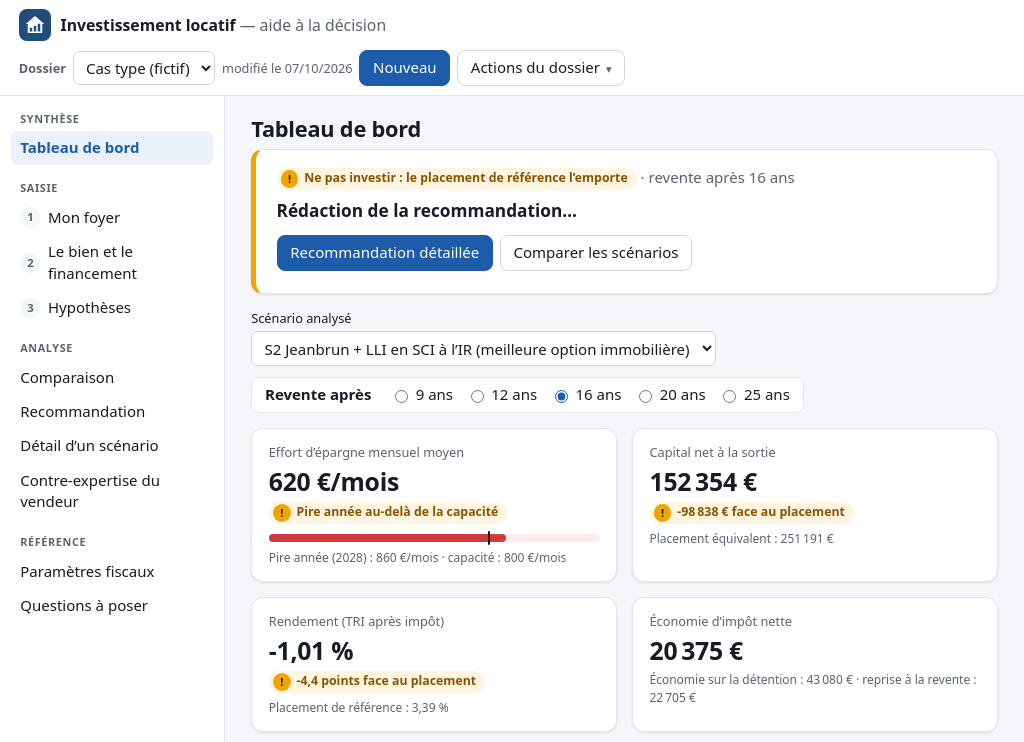
Test: tableau de bord › dossier incomplet : le tableau de bord dit quoi saisir
What coordinates should you click on to do the following:
click the button "Nouveau"
I would click on:
 (405, 68)
Its box is x1=359 y1=50 x2=450 y2=86.
(page scrolled)
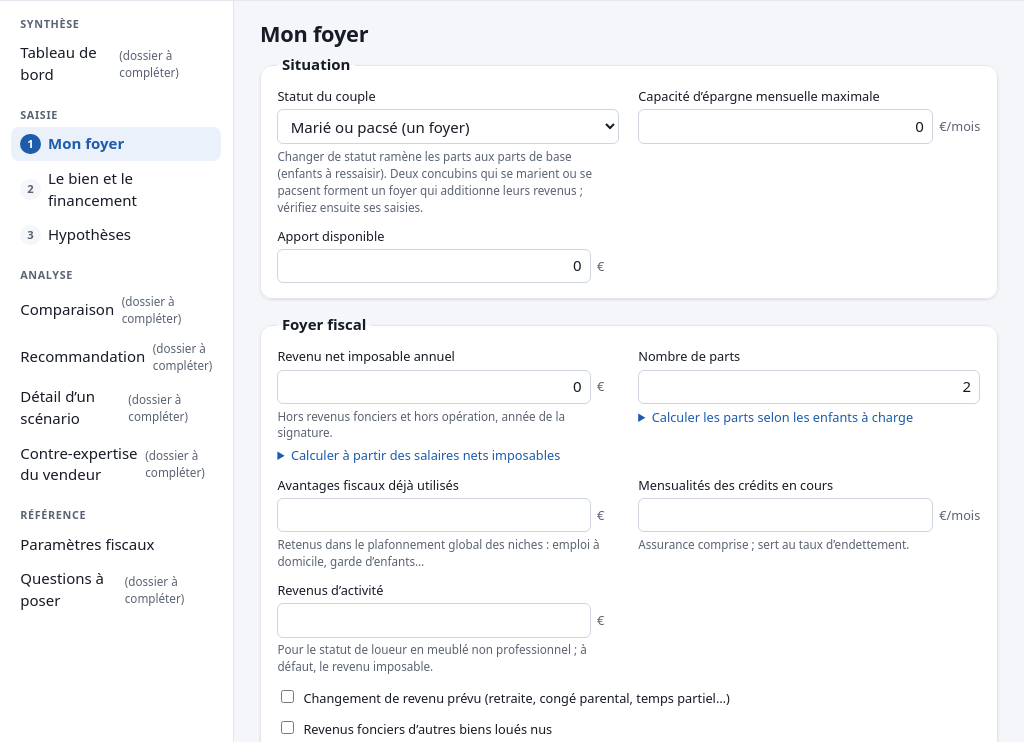
What coordinates should you click on to do the following:
click the link "Tableau de bord (dossier à compléter)"
I would click on:
 (100, 63)
Its box is x1=20 y1=42 x2=179 y2=84.
(page scrolled)
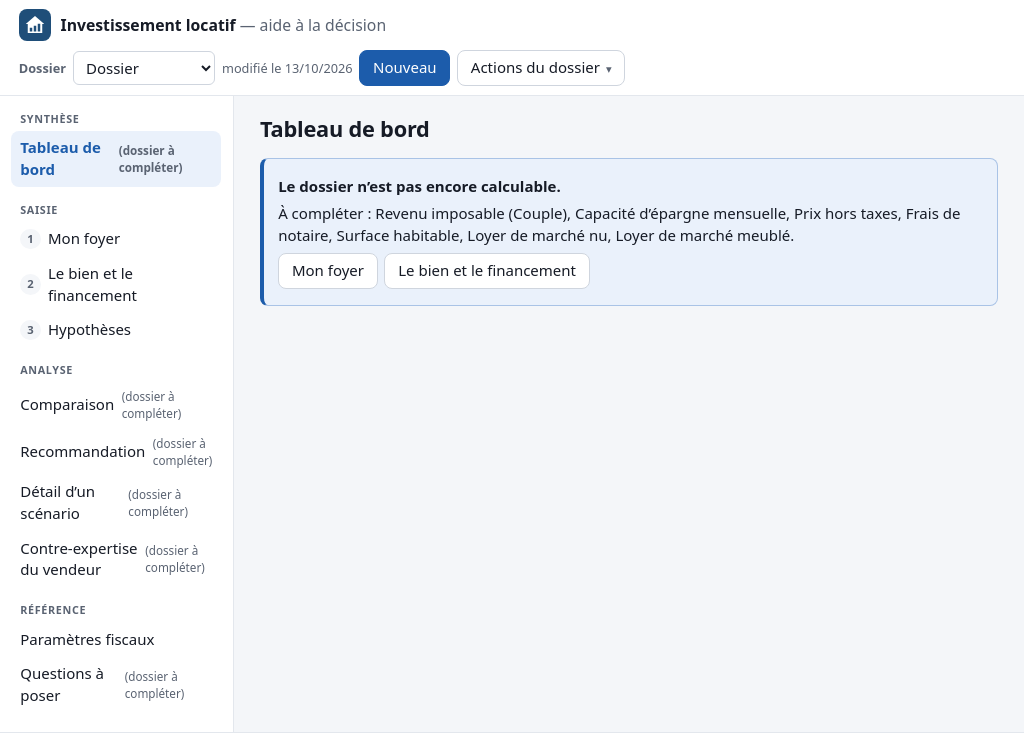
Now the text "Le dossier n’est pas encore calculable." is shown, box x1=278 y1=176 x2=561 y2=196
